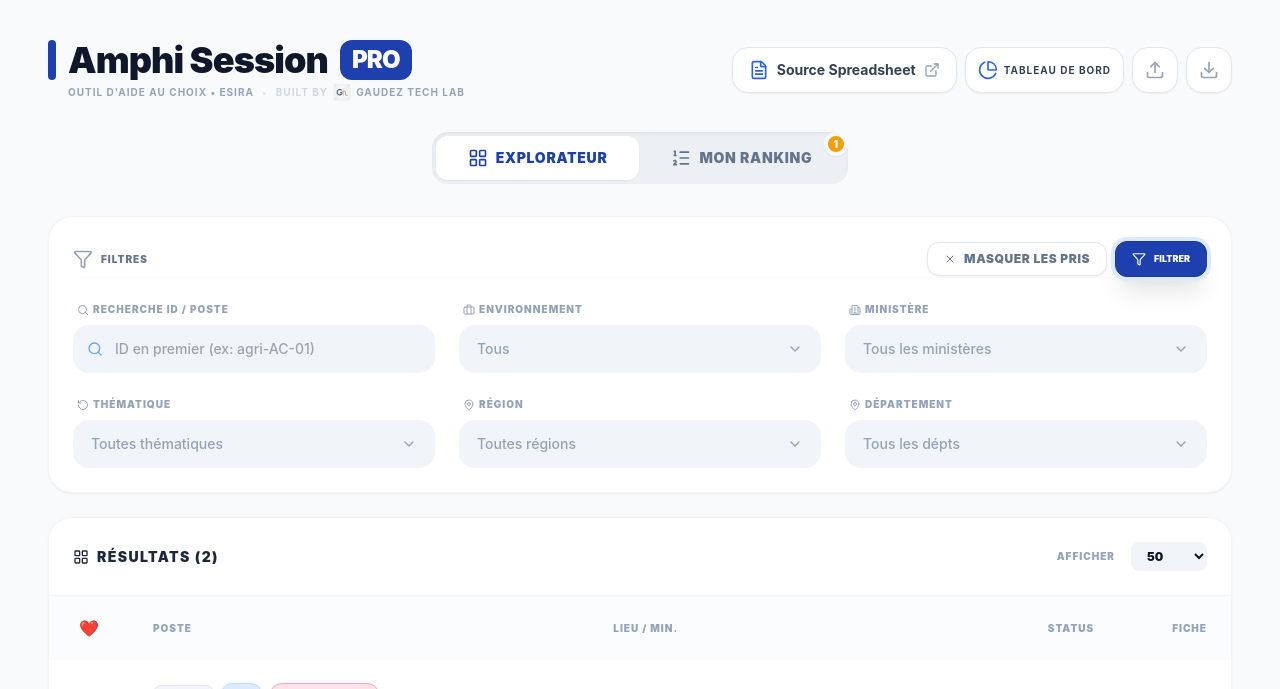
Test case: App shared notes › keeps ranking desktop actions aligned when a note exists
Step 1. Click the button "Mon Ranking 1" → (742, 158), box [639, 136, 844, 180]
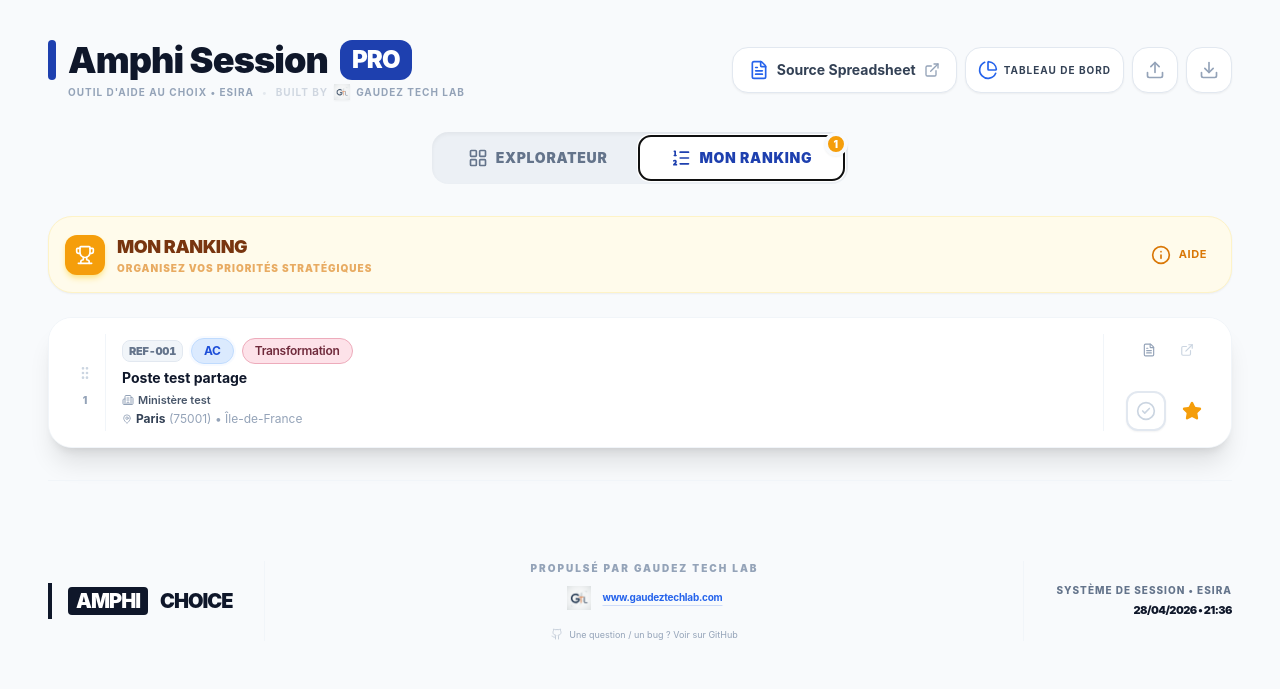
expect the element named "Note" is shown: met, box [1142, 343, 1156, 357]
expect the link titled "Voir la fiche" is shown: met, box [1180, 343, 1194, 357]
